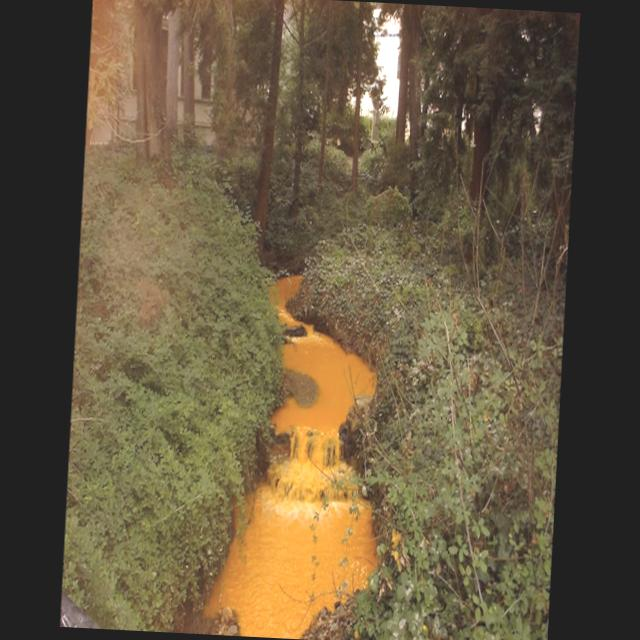yellow_boy: (205, 276, 376, 638)
